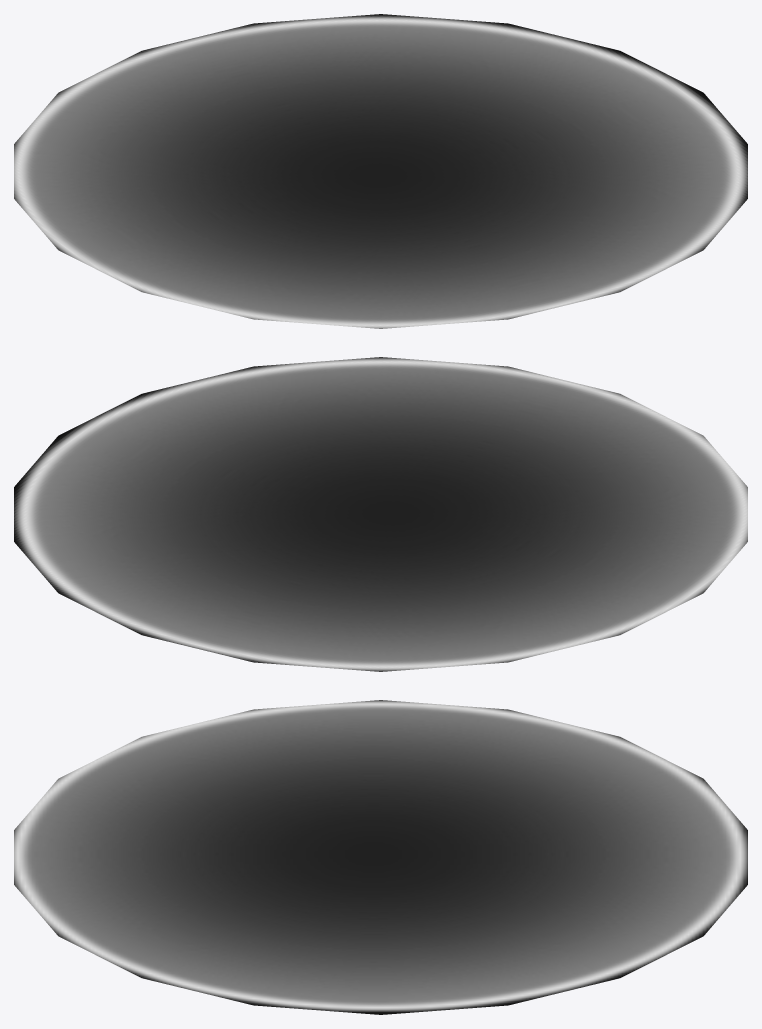
The model's file is yuanpian.FBX.
The picture shows the model from 3 angles, top to bottom: view 1: azimuth 30°, elevation 25°; view 2: azimuth 150°, elevation 25°; view 3: azimuth 270°, elevation 25°; orthographic projection.
Parts seen in each view (by area): view 1: Cylinder001; view 2: Cylinder001; view 3: Cylinder001.
Part boxes in pixels (x1,y1,x2,y2): Cylinder001: (14, 14, 747, 328); Cylinder001: (14, 357, 747, 671); Cylinder001: (14, 700, 747, 1014).
Bounding box in the file's own units: 101 × 6.11e-15 × 99.74.
